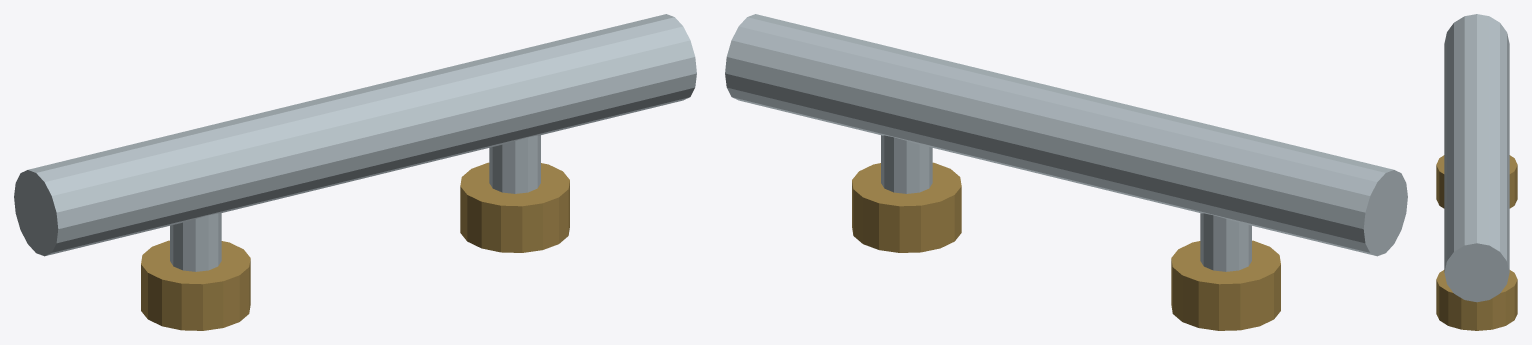
Rendered from body.obj.
3 renders of one model, left to right at view 1: azimuth 30°, elevation 25°; view 2: azimuth 150°, elevation 25°; view 3: azimuth 270°, elevation 25°, orthographic. The views are drawn at different scales.
Size of the model in its own units: 1 by 0.267 by 0.15.
